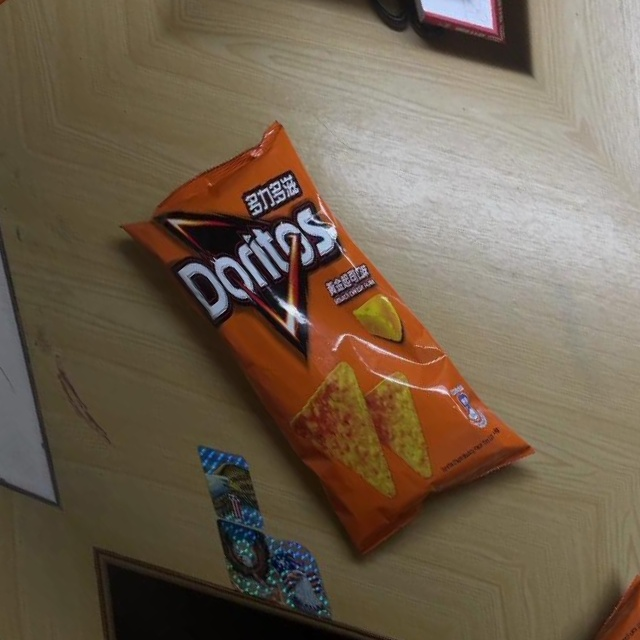Doritos: (94, 100, 550, 584)
